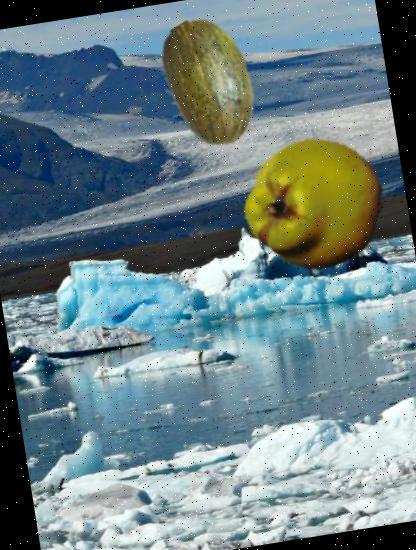Melon: (136, 7, 286, 156)
Quince: (234, 125, 396, 286)
